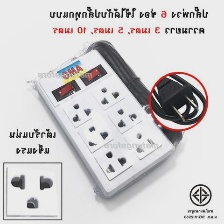three_eye_plug: (30, 46, 176, 201), (3, 163, 62, 219)
